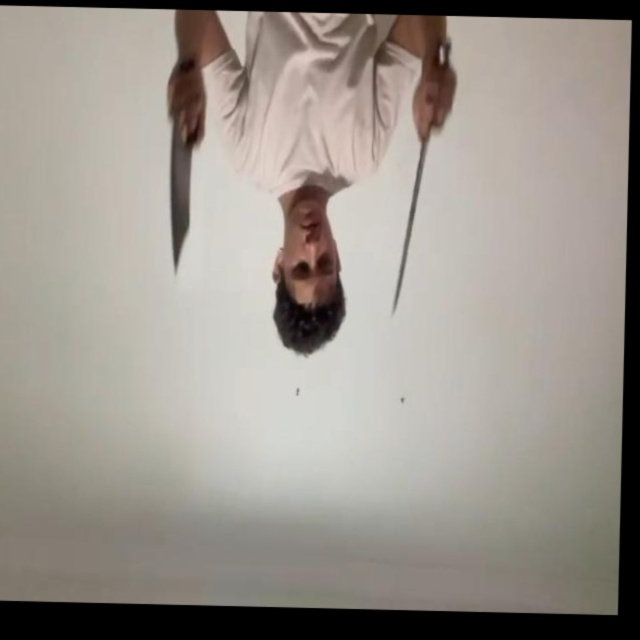Sharp-Object: (393, 144, 424, 311), (167, 126, 192, 275)
